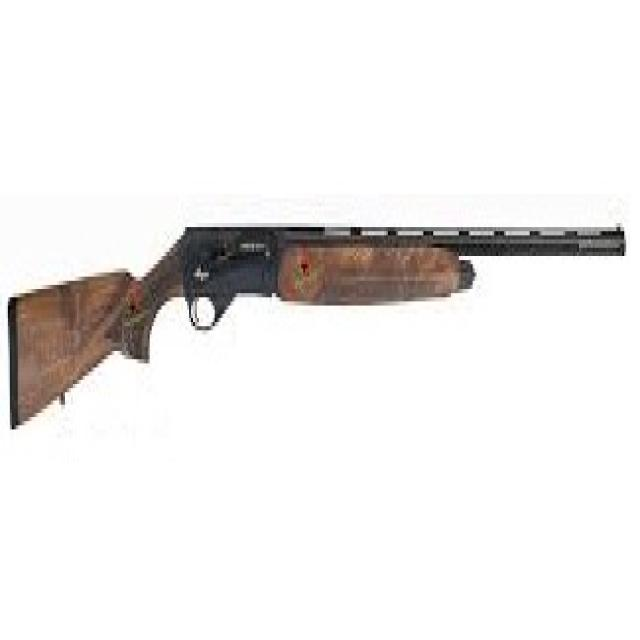rifle: (7, 205, 632, 445)
